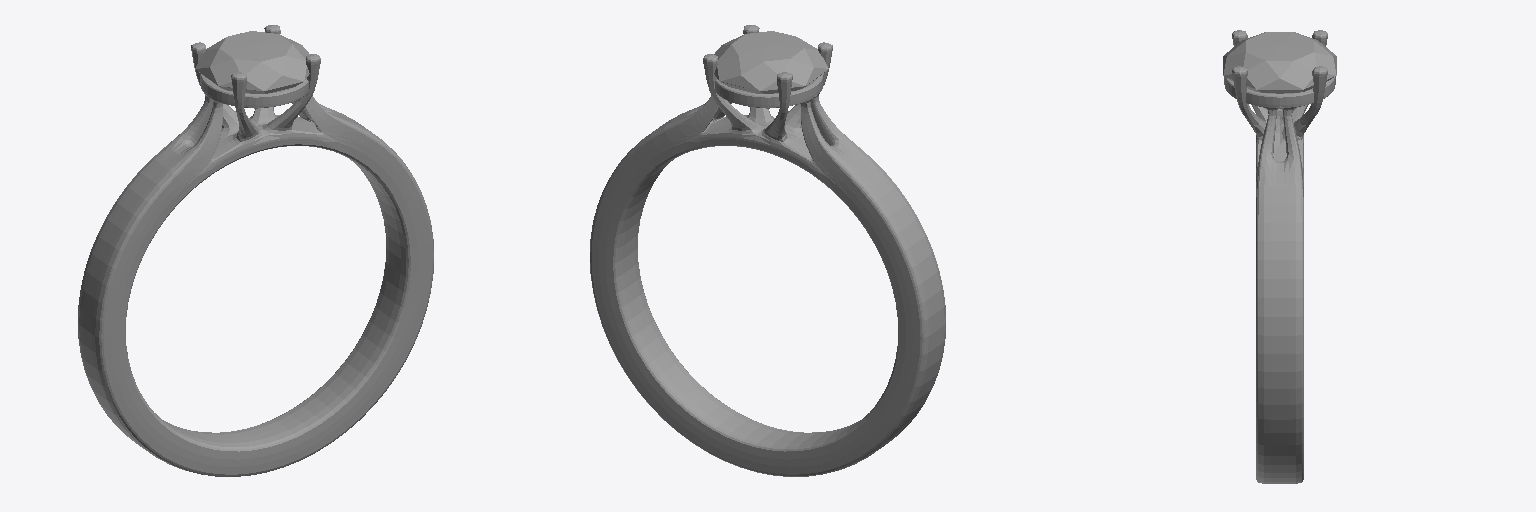
File: teszt3.obj
The picture shows the model from 3 angles: view 1: azimuth 30°, elevation 25°; view 2: azimuth 150°, elevation 25°; view 3: azimuth 270°, elevation 25°; orthographic projection.
Parts seen in each view (by area): view 1: Cylinder, Gem; view 2: Cylinder, Gem; view 3: Cylinder, Gem.
Boxes of the visible parts, x1=… form: Cylinder: x1=78, y1=25, x2=433, y2=476; Gem: x1=195, y1=31, x2=309, y2=108; Cylinder: x1=590, y1=25, x2=945, y2=476; Gem: x1=714, y1=31, x2=828, y2=108; Cylinder: x1=1224, y1=30, x2=1335, y2=483; Gem: x1=1223, y1=32, x2=1336, y2=108.
Bounding box in the file's own units: 3.87 × 4.6 × 1.13.